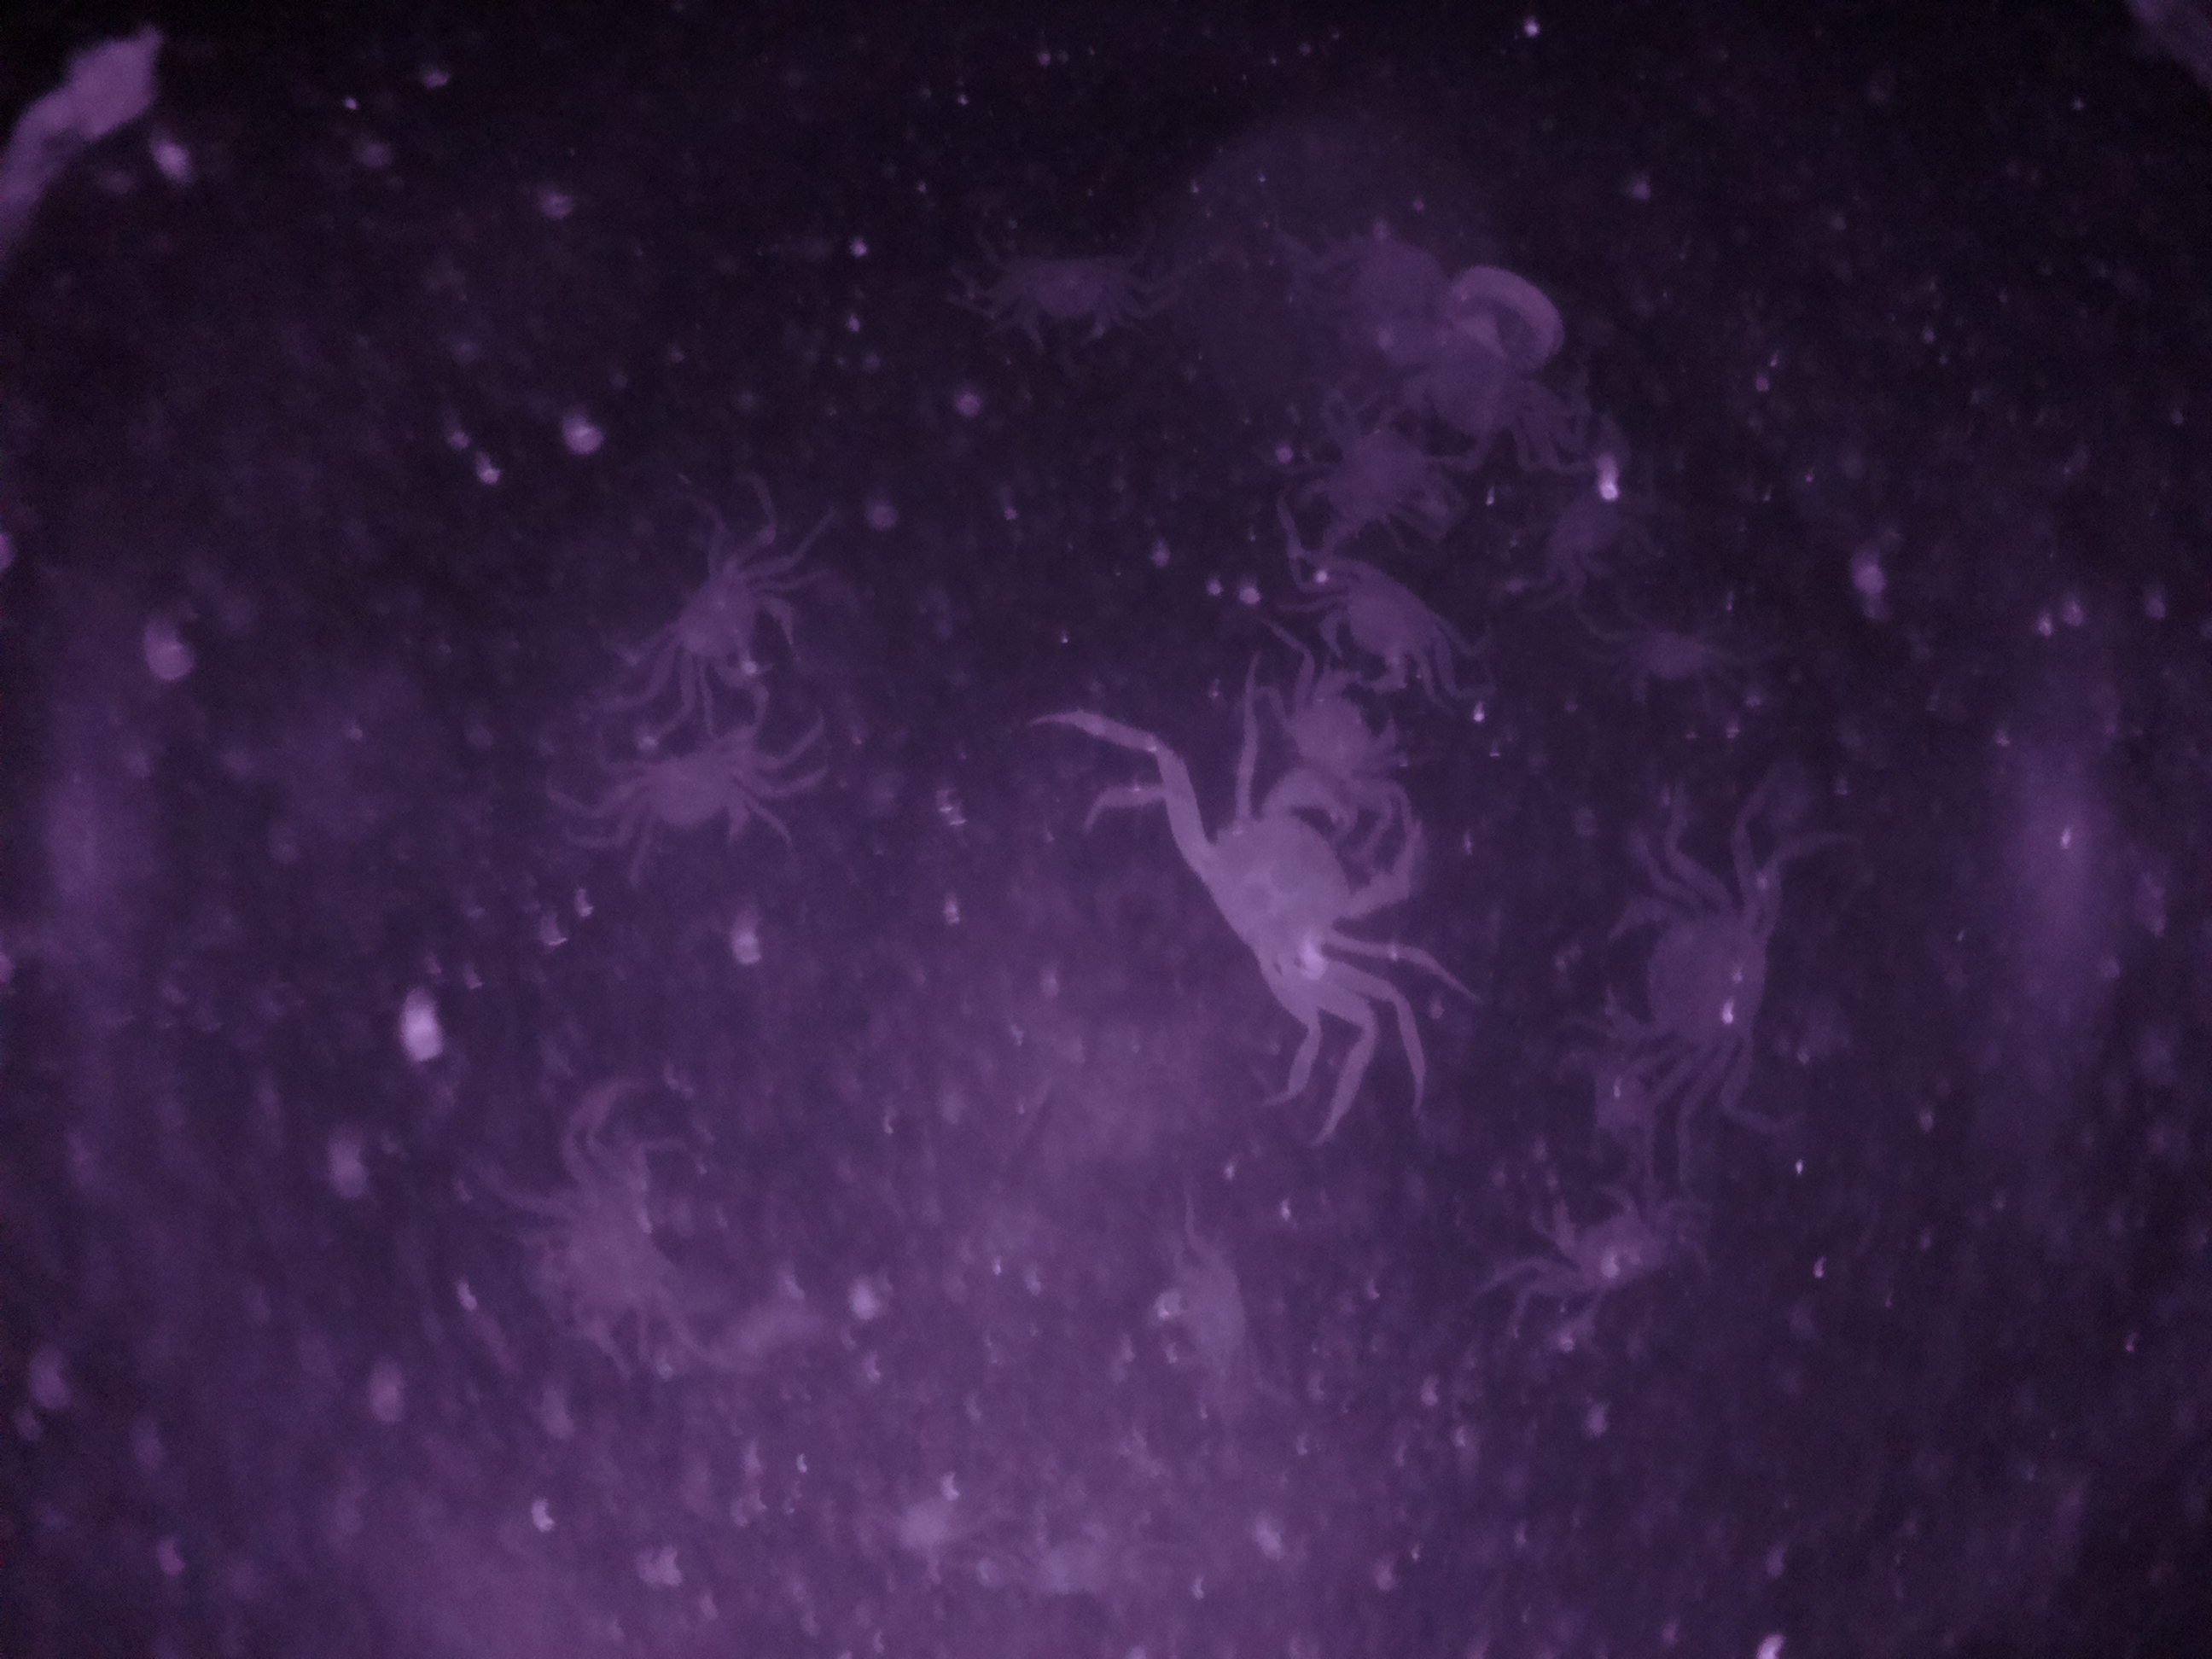Crab: (1176, 751, 1435, 1012), (1557, 870, 1827, 1096), (1296, 526, 1496, 718), (629, 547, 817, 706), (604, 728, 789, 877)
